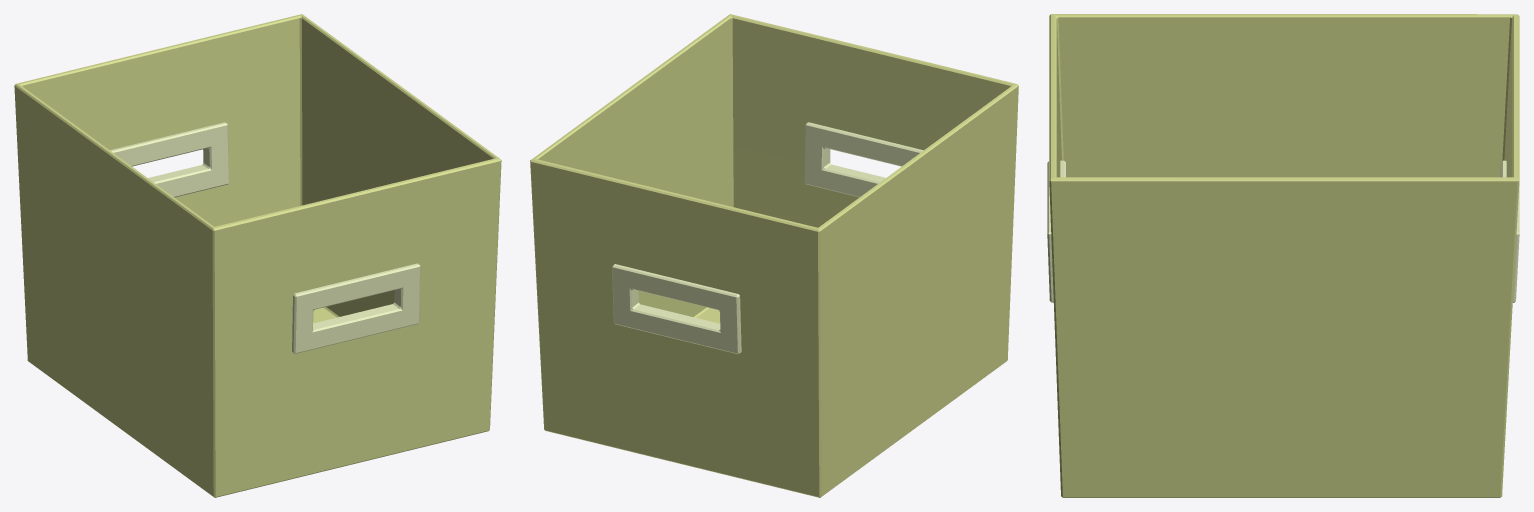
The picture shows the model from 3 angles, left to right: view 1: azimuth 30°, elevation 25°; view 2: azimuth 150°, elevation 25°; view 3: azimuth 270°, elevation 25°; orthographic projection. The views are drawn at different scales.
Visible parts, largest first — view 1: file_box_1; view 2: file_box_1; view 3: file_box_1.
Boxes of the visible parts, x1,y1,x2,y2 form: file_box_1: [14, 14, 501, 497]; file_box_1: [530, 14, 1018, 497]; file_box_1: [1047, 14, 1519, 497].
Bounding box in the file's own units: 0.2785 × 0.2528 × 0.3347.
